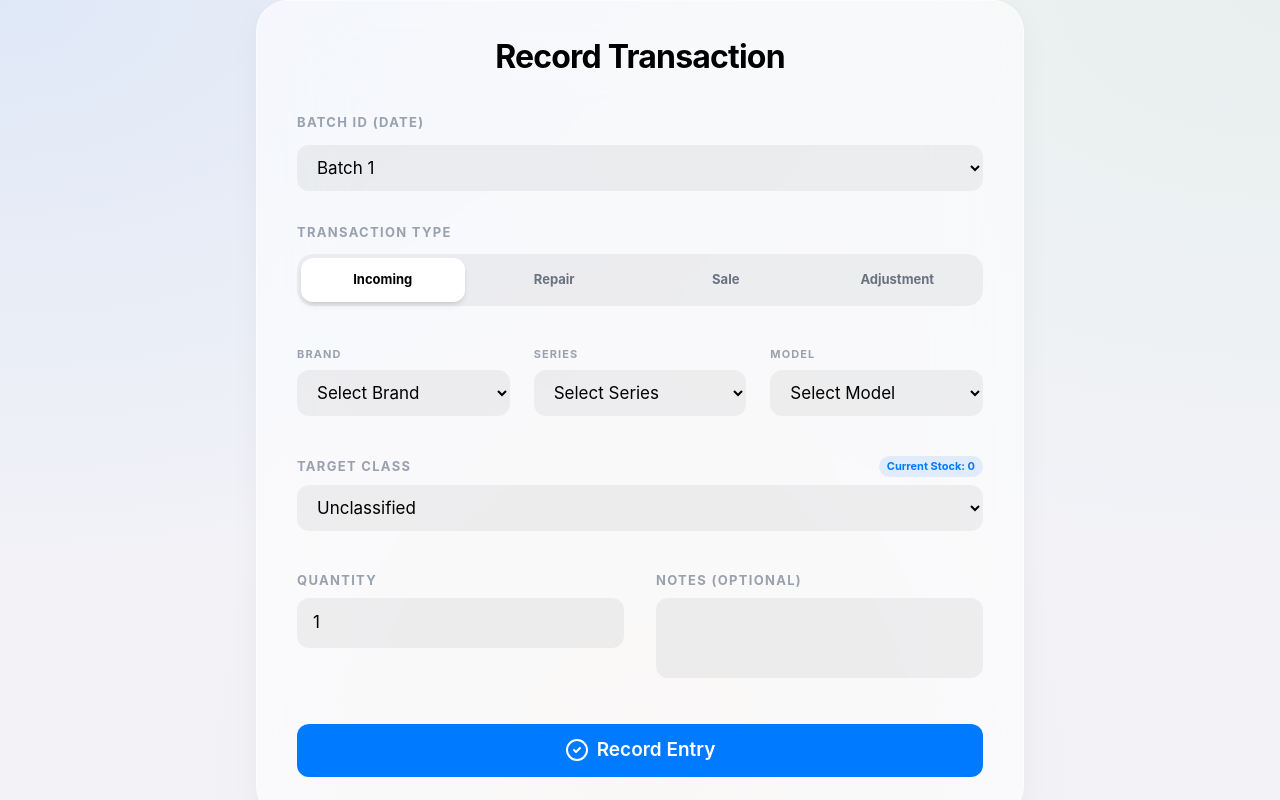
Test: AddTransaction Component › shows both from and to class for REPAIR
Click the radio button labelled "Repair": (554, 280) [472,258,636,302]
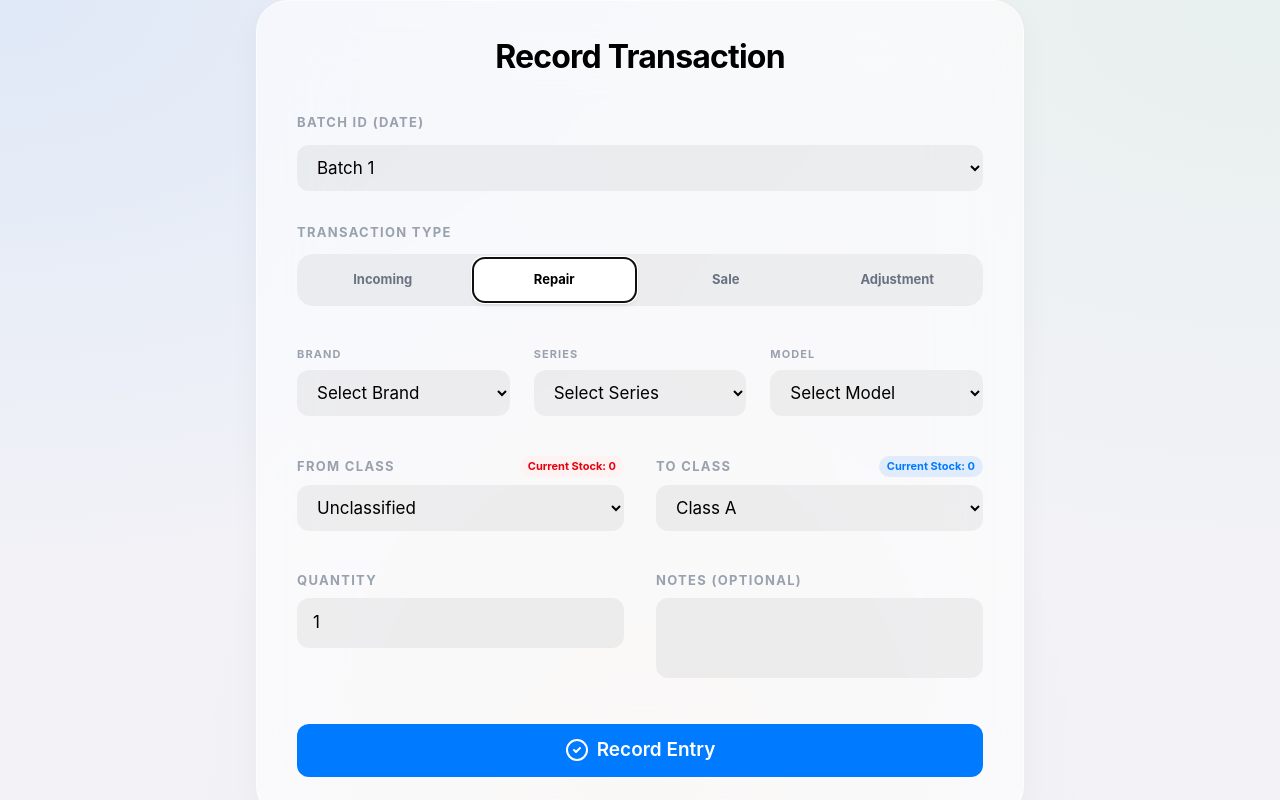
Expected: the dropdown labelled "To Class" is shown, [656,484,983,530]
Result: the dropdown labelled "From Class" is shown at [297,484,624,530]
